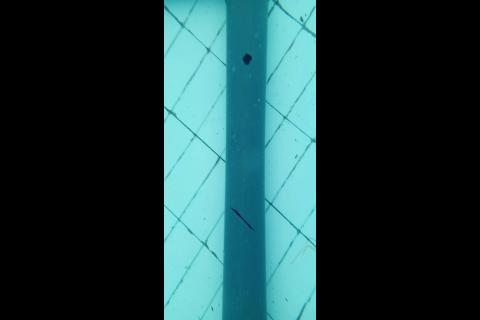kebocoran: (240, 51, 253, 66)
keretakan: (229, 205, 255, 234)
